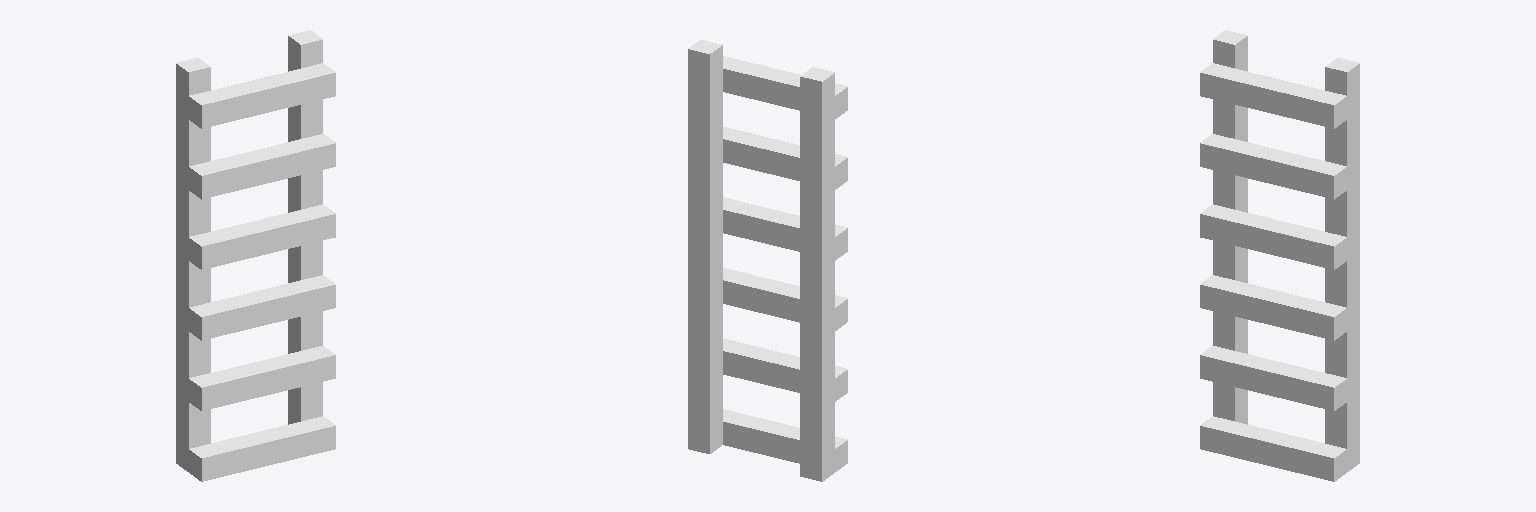
The model's file is ConstructionMaterials-75.obj.
3 views of the same model, side by side, from view 1: azimuth 30°, elevation 25°; view 2: azimuth 150°, elevation 25°; view 3: azimuth 330°, elevation 25° (orthographic).
Visible parts, largest first — view 1: object 1; view 2: object 1; view 3: object 1.
Boxes of the visible parts, x1,y1,x2,y2 form: object 1: [176, 30, 335, 481]; object 1: [688, 40, 847, 481]; object 1: [1200, 30, 1359, 481].
Bounding box in the file's own units: 0.6 × 1.7 × 0.2.